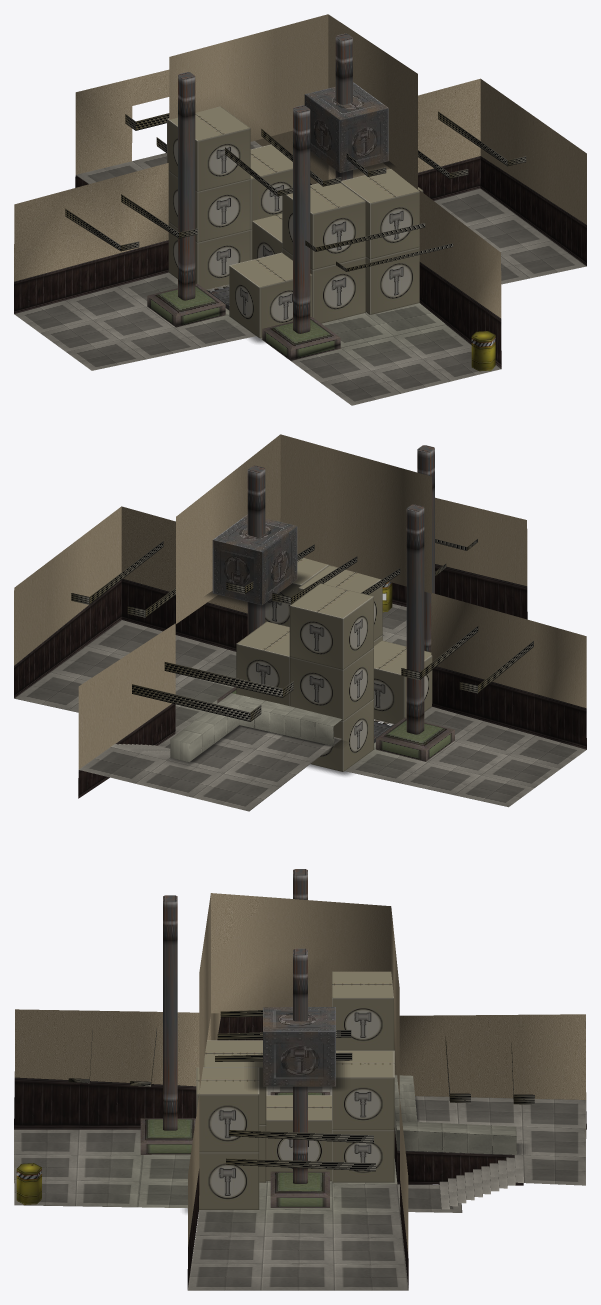
File: room_11.glb
3 views of the same model, one above another, from view 1: azimuth 30°, elevation 25°; view 2: azimuth 150°, elevation 25°; view 3: azimuth 270°, elevation 25° (orthographic). The views are drawn at different scales.
Visible parts, largest first — view 1: wall, floor, wall22, CBMetalBoxSides (×5), shaft (×3), CBMetalBoxSides1 (×3), head (×2), CBMetalBoxTop1 (×3), CardBoardBoxSides1, CardBoardBoxSides2, CBMetalBoxTop (×2), CardBoardBoxSides (+8 smaller); view 2: wall, floor, wall22, shaft (×3), CBMetalBoxSides (×2), Borders, CardBoardBoxSides2, CardBoardBoxSides1, CBMetalBoxSides1 (×2), CBMetalBoxTop (×2), CardBoardBoxSides, CBMetalBoxTop1 (×2) (+11 smaller); view 3: wall, floor, CBMetalBoxSides (×4), wall22, CBMetalBoxSides1 (×2), shaft (×2), CBMetalBoxTop1 (×3), Borders, head (×2), CardBoardBoxSides2, CBMetalBoxTop (×2), platform_wall (+6 smaller).
Part boxes in pixels (<box>): wall: <box>14,14,586,318</box>; floor: <box>14,141,586,405</box>; wall22: <box>14,156,586,368</box>; CBMetalBoxSides (×5): <box>229,94,419,338</box>; shaft (×3): <box>178,33,352,333</box>; CBMetalBoxSides1 (×3): <box>250,169,423,269</box>; head (×2): <box>147,283,340,360</box>; CBMetalBoxTop1 (×3): <box>250,144,422,213</box>; CardBoardBoxSides1: <box>168,171,250,242</box>; CardBoardBoxSides2: <box>167,119,250,191</box>; CBMetalBoxTop (×2): <box>229,82,388,287</box>; CardBoardBoxSides: <box>168,222,250,290</box>; wall: <box>14,434,586,769</box>; floor: <box>14,603,586,811</box>; wall22: <box>14,564,586,798</box>; shaft (×3): <box>247,445,434,734</box>; CBMetalBoxSides (×2): <box>212,526,432,724</box>; Borders: <box>170,693,342,762</box>; CardBoardBoxSides2: <box>289,596,373,669</box>; CardBoardBoxSides1: <box>290,648,373,720</box>; CBMetalBoxSides1 (×2): <box>236,565,331,706</box>; CBMetalBoxTop (×2): <box>213,514,431,674</box>; CardBoardBoxSides: <box>311,699,373,771</box>; CBMetalBoxTop1 (×2): <box>236,565,380,656</box>; wall: <box>14,893,586,1253</box>; floor: <box>14,1087,586,1290</box>; CBMetalBoxSides (×4): <box>199,1031,394,1209</box>; wall22: <box>14,1016,586,1289</box>; CBMetalBoxSides1 (×2): <box>196,1077,394,1152</box>; shaft (×2): <box>163,895,307,1183</box>; CBMetalBoxTop1 (×3): <box>196,1040,394,1094</box>; Borders: <box>394,1075,516,1154</box>; head (×2): <box>140,1118,329,1207</box>; CardBoardBoxSides2: <box>332,998,394,1050</box>; CBMetalBoxTop (×2): <box>263,1007,335,1119</box>; platform_wall: <box>394,1128,523,1185</box>.
Bounding box in the file's own units: 135 × 63.38 × 135.
19 materials, 18 textured.
